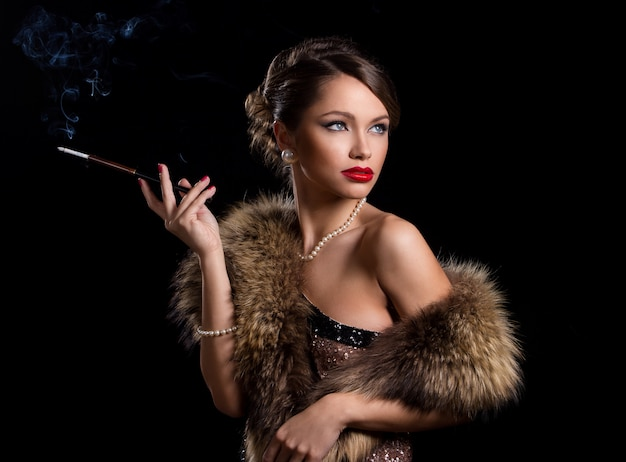cigarette: (57, 145, 90, 160)
